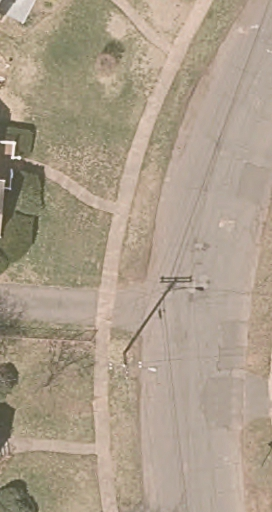DT: (109, 349, 158, 378)
